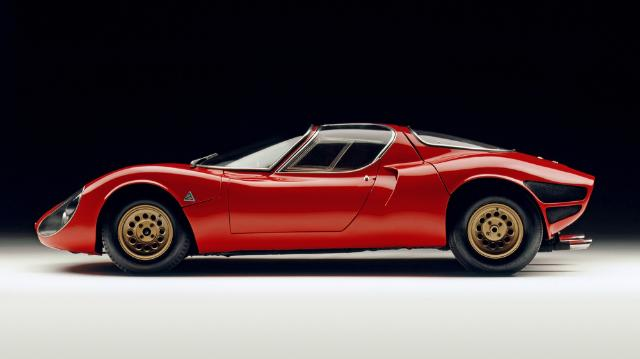alpha-romeo: (34, 122, 596, 278)
